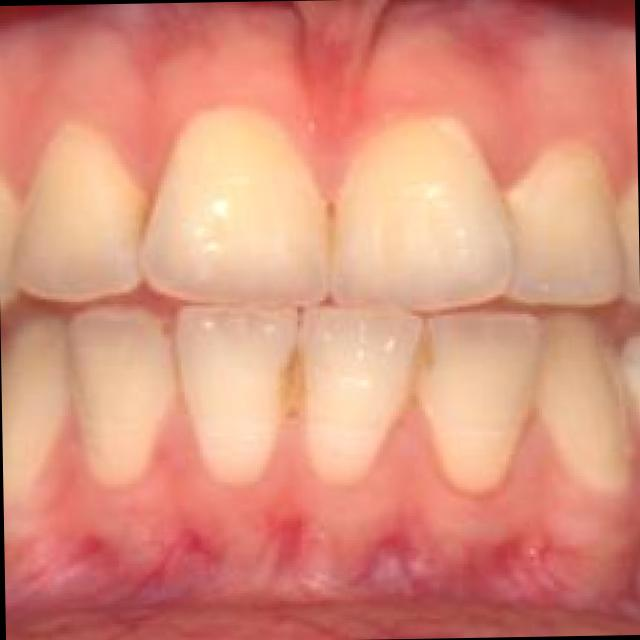cavity: (269, 346, 316, 412), (317, 193, 353, 254), (120, 191, 162, 235), (406, 330, 438, 376)
